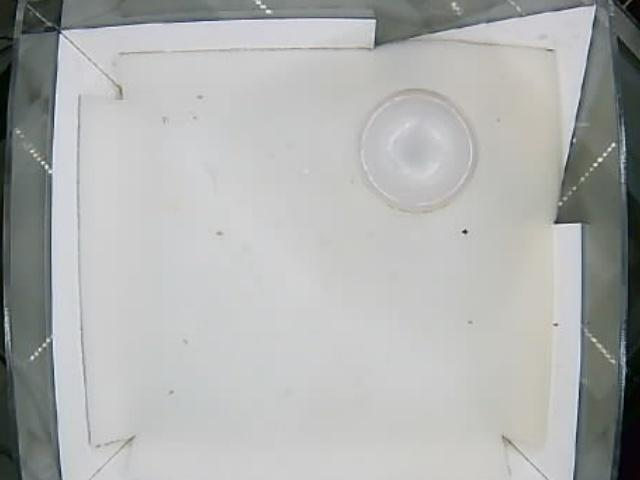Bottle: (356, 86, 477, 219)
